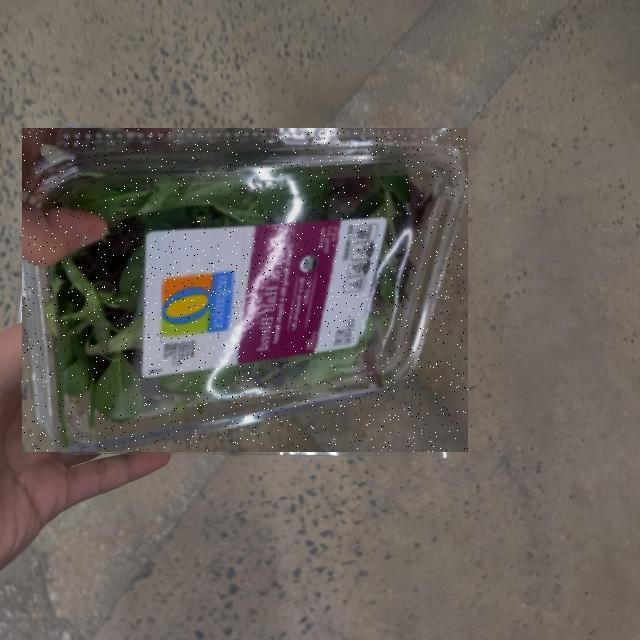Lettuce: (22, 128, 468, 452)
